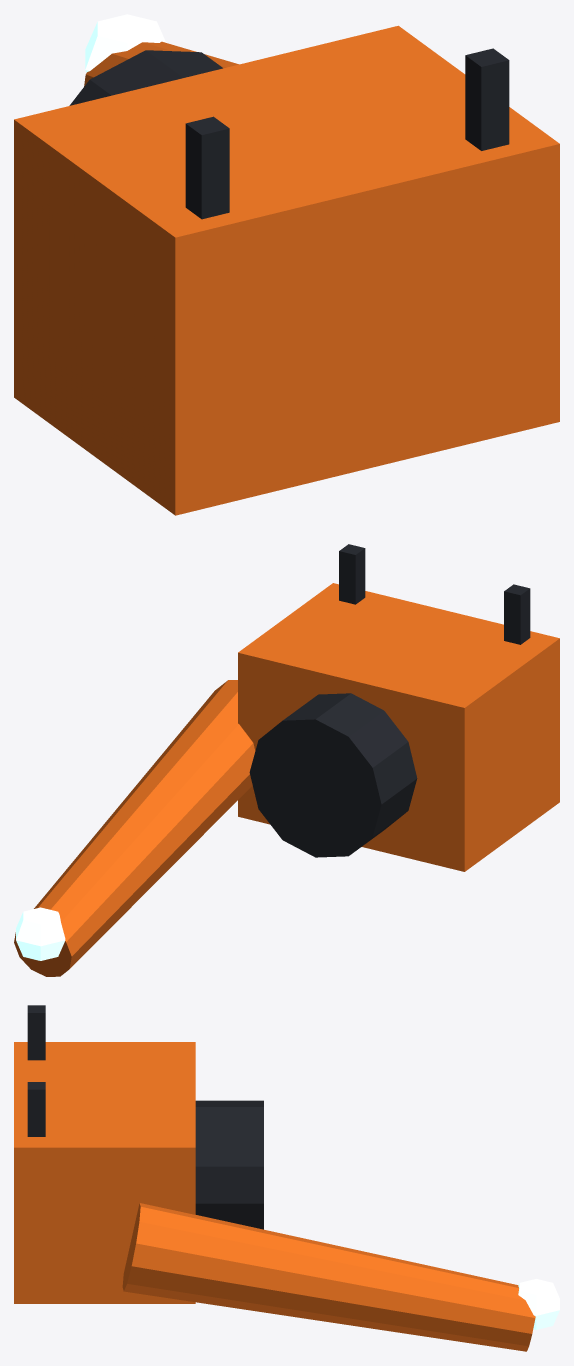
The model's file is upgrade-leaf_blower.glb.
The picture shows the model from 3 angles, top to bottom: view 1: azimuth 30°, elevation 25°; view 2: azimuth 150°, elevation 25°; view 3: azimuth 270°, elevation 25°; orthographic projection. The views are drawn at different scales.
Visible parts, largest first — view 1: upgrade-leaf_blower; view 2: upgrade-leaf_blower; view 3: upgrade-leaf_blower.
Boxes of the visible parts, <box> form: upgrade-leaf_blower: <box>14,14,559,515</box>; upgrade-leaf_blower: <box>14,544,559,976</box>; upgrade-leaf_blower: <box>14,1005,559,1351</box>.
Size of the model in its own units: 0.695 by 0.583 by 1.2.
